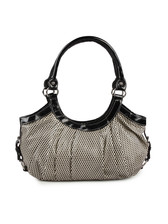bag: (7, 31, 158, 187)
